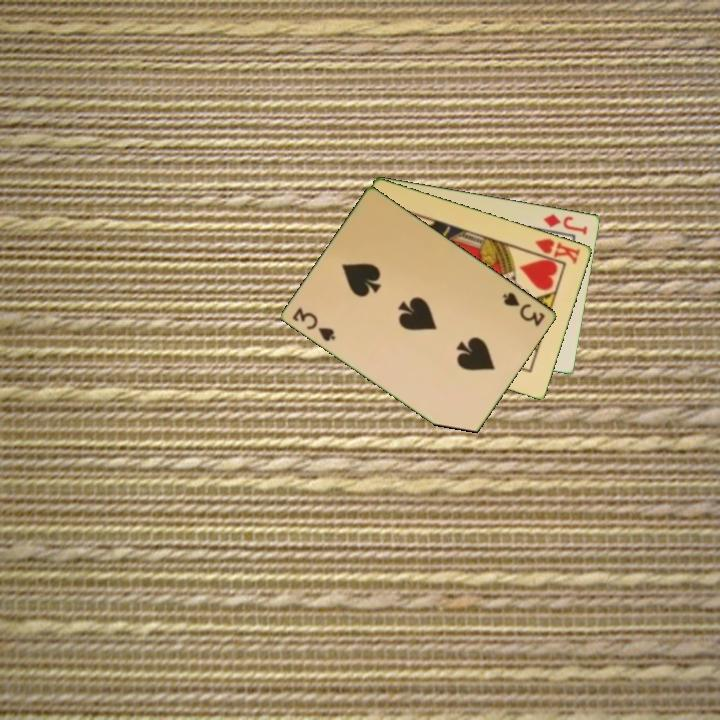3s: (499, 288, 548, 329), (289, 304, 339, 344)
Jd: (540, 210, 590, 237)
Kh: (526, 235, 584, 266)
